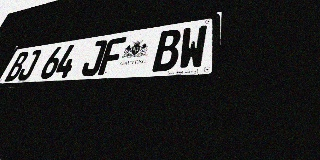4: (53, 44, 81, 78)
6: (38, 46, 66, 79)
B: (152, 28, 182, 72), (4, 51, 30, 82)
F: (97, 37, 127, 75)
J: (79, 39, 108, 77), (16, 49, 42, 81)
W: (177, 25, 207, 70)
